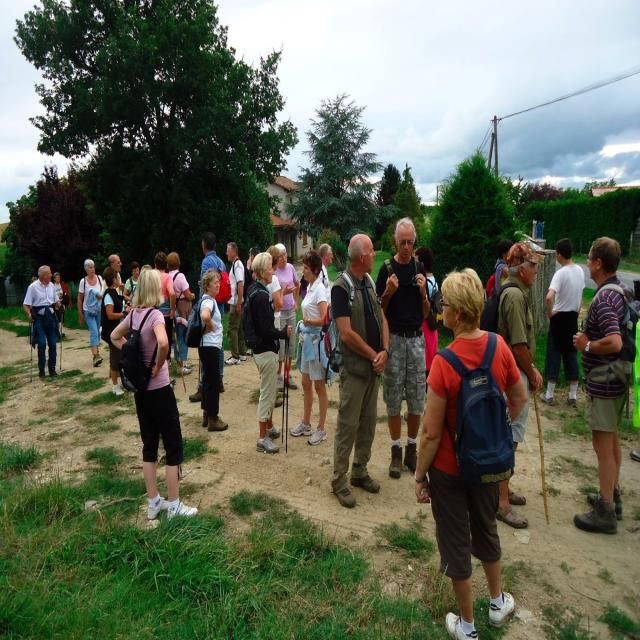body: (410, 266, 530, 640), (106, 267, 200, 522), (314, 232, 392, 509), (570, 234, 640, 537), (479, 241, 546, 529), (372, 215, 431, 480), (537, 234, 587, 408), (240, 251, 282, 454), (288, 247, 330, 446), (186, 229, 232, 404), (196, 269, 229, 432), (99, 264, 134, 398), (22, 263, 62, 379), (411, 244, 441, 396), (274, 243, 300, 394), (224, 241, 254, 366), (167, 252, 196, 376), (76, 258, 105, 367), (101, 254, 126, 379), (153, 250, 177, 325), (266, 245, 286, 331), (629, 311, 640, 464), (52, 272, 72, 339), (315, 243, 334, 307), (494, 238, 514, 293), (122, 261, 140, 304), (244, 244, 258, 286), (298, 274, 310, 298), (138, 262, 152, 274), (246, 347, 254, 357), (30, 275, 37, 284)
